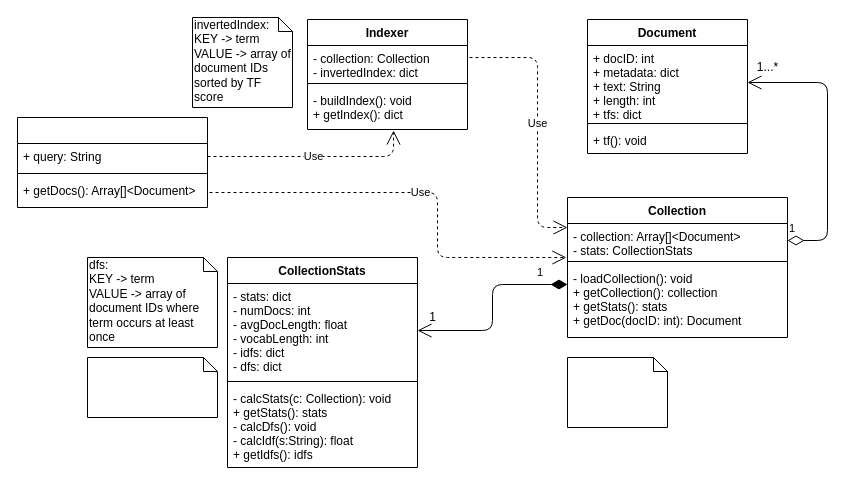
This 862x488 diagram has some shape labels left out. Each missing label, with the box of its shape:
IDF is used to remove popular words based on a certain threshold: (566, 356, 668, 428)
idfs: KEY -> term VALUE -> calculated IDF score: (86, 356, 218, 418)
Searcher: (16, 116, 208, 208)
